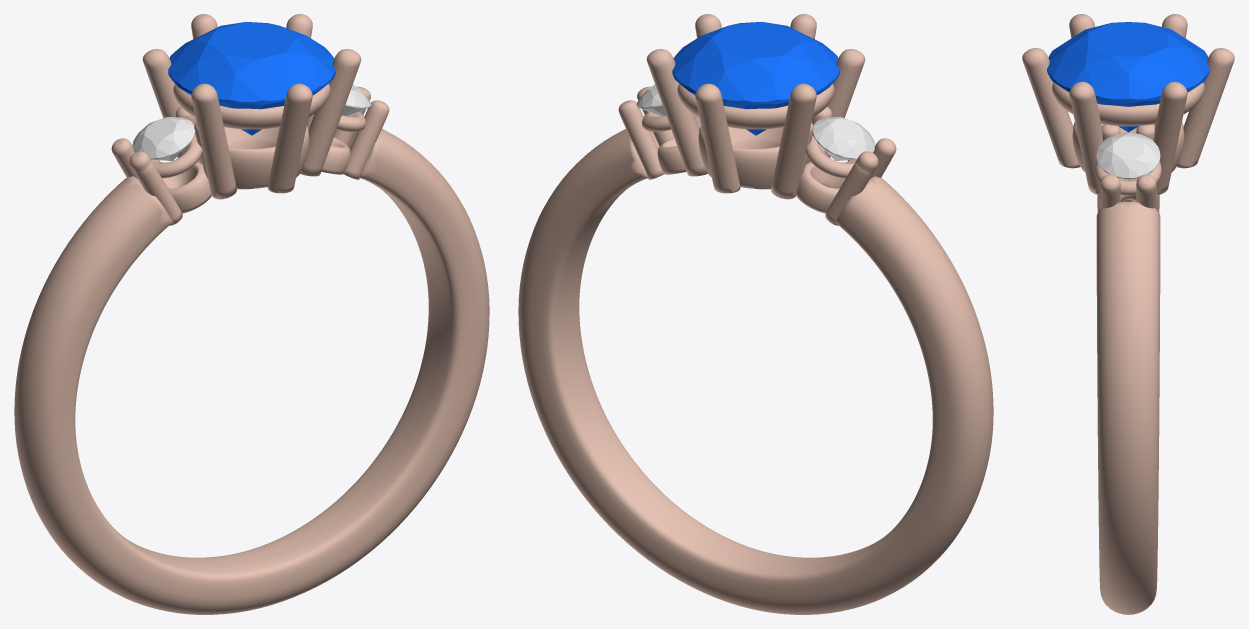
Rendered from bluesapphire-round-rosegold-6prong-straightband-2stone.glb.
The picture shows the model from 3 angles, left to right: view 1: azimuth 30°, elevation 25°; view 2: azimuth 150°, elevation 25°; view 3: azimuth 270°, elevation 25°; orthographic projection. The views are drawn at different scales.
Parts seen in each view (by area): view 1: metal, stone, side.001; view 2: metal, stone, side.001; view 3: metal, stone, side.
Boxes of the visible parts, x1,y1,x2,y2 form: metal: [14, 14, 489, 614]; stone: [168, 21, 335, 135]; side.001: [132, 117, 195, 160]; metal: [518, 14, 993, 614]; stone: [672, 21, 839, 135]; side.001: [812, 117, 875, 160]; metal: [1022, 14, 1234, 614]; stone: [1047, 22, 1209, 132]; side: [1096, 132, 1160, 179].
Bounding box in the file's own units: 20.5 × 23.81 × 8.33.
